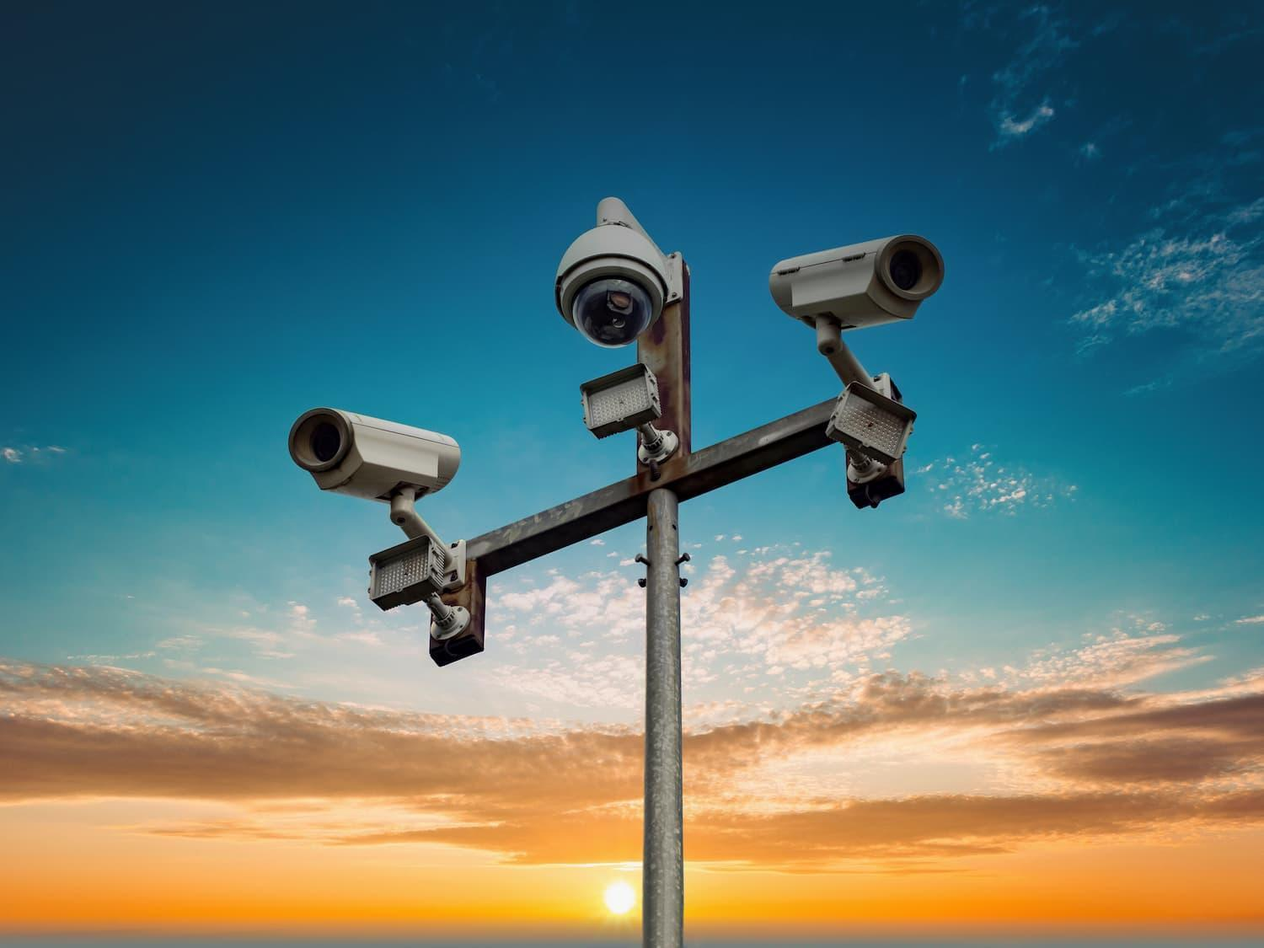camera: (230, 318, 522, 609), (742, 177, 1000, 377), (506, 183, 702, 396)
